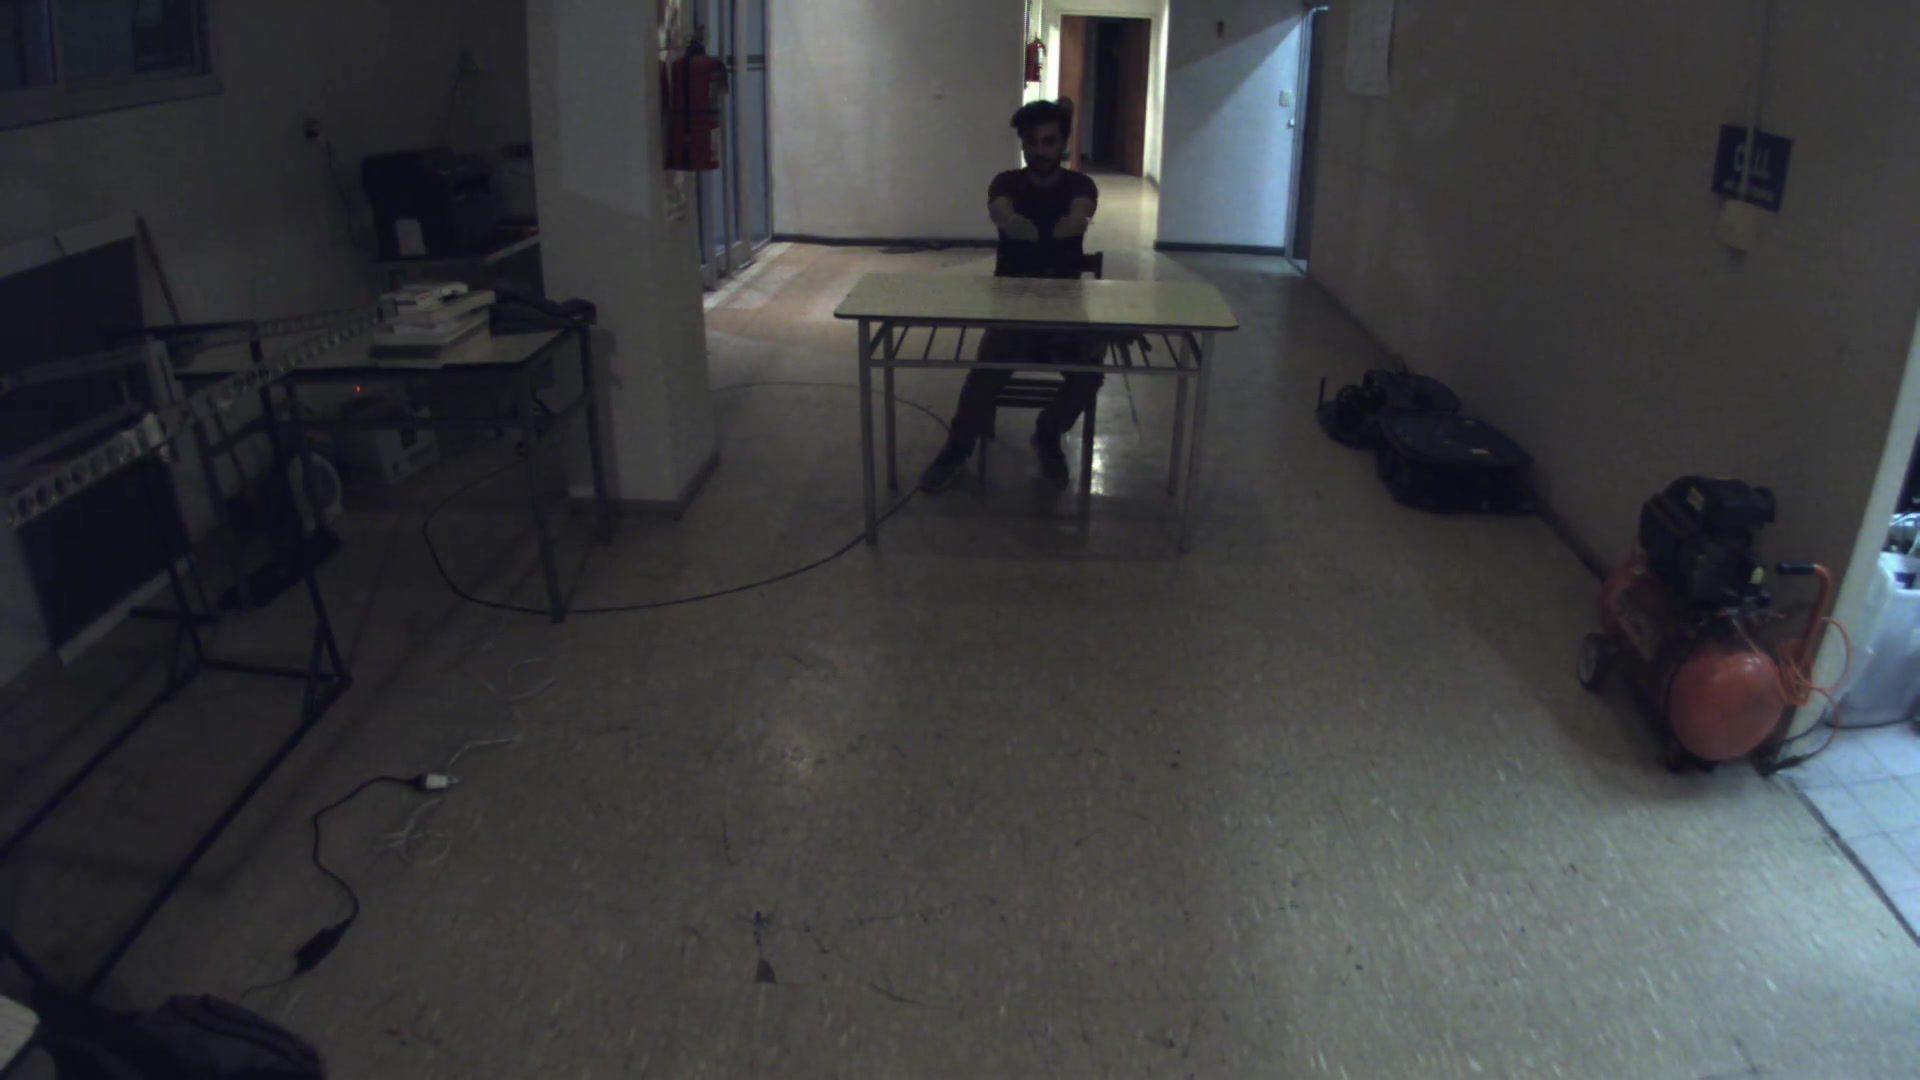hand: (1051, 204, 1095, 245), (1001, 210, 1051, 243)
